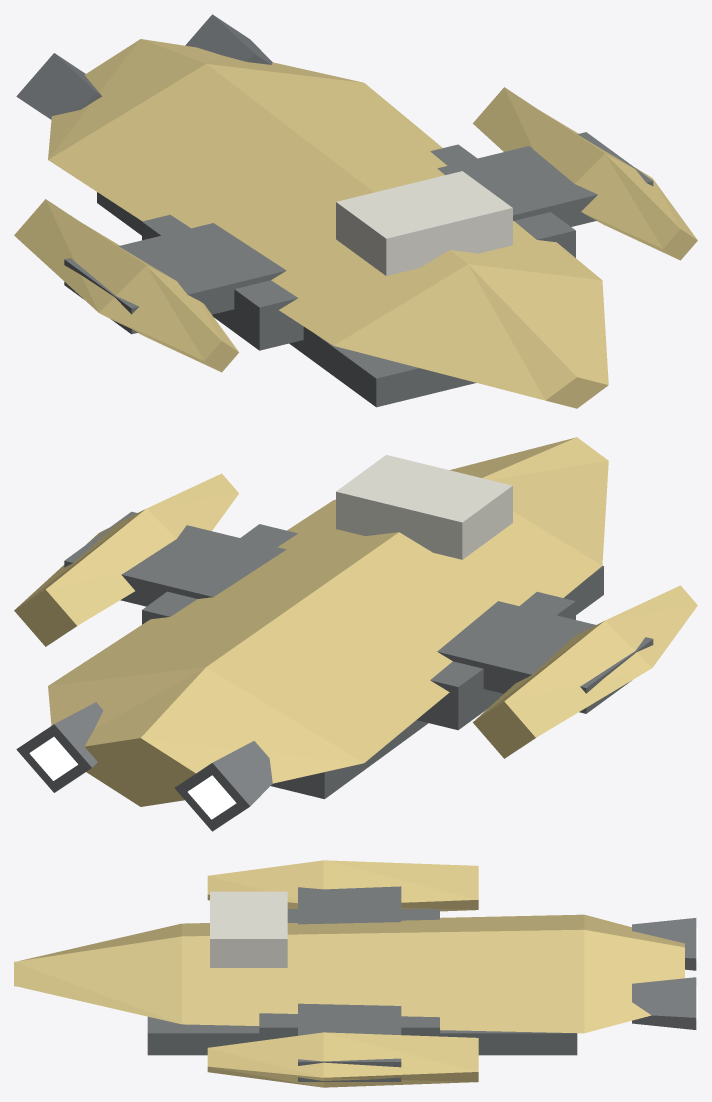
The picture shows the model from 3 angles, top to bottom: view 1: azimuth 30°, elevation 25°; view 2: azimuth 150°, elevation 25°; view 3: azimuth 270°, elevation 25°; orthographic projection. The views are drawn at different scales.
Bounding box in the file's own units: 6.93 × 1.6 × 9.65.
